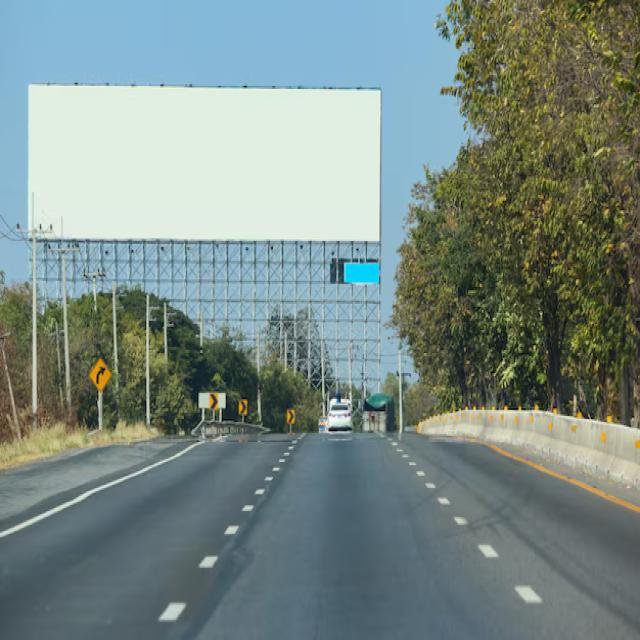Billboard_LHS: (88, 350, 115, 400), (194, 382, 232, 416)
Billboard_overhead: (23, 69, 384, 298)
Billboards: (278, 392, 307, 433), (232, 387, 252, 420)
Roadcorner: (8, 430, 218, 541), (468, 430, 639, 537)
Roadlane: (378, 443, 579, 634), (126, 431, 308, 638)
